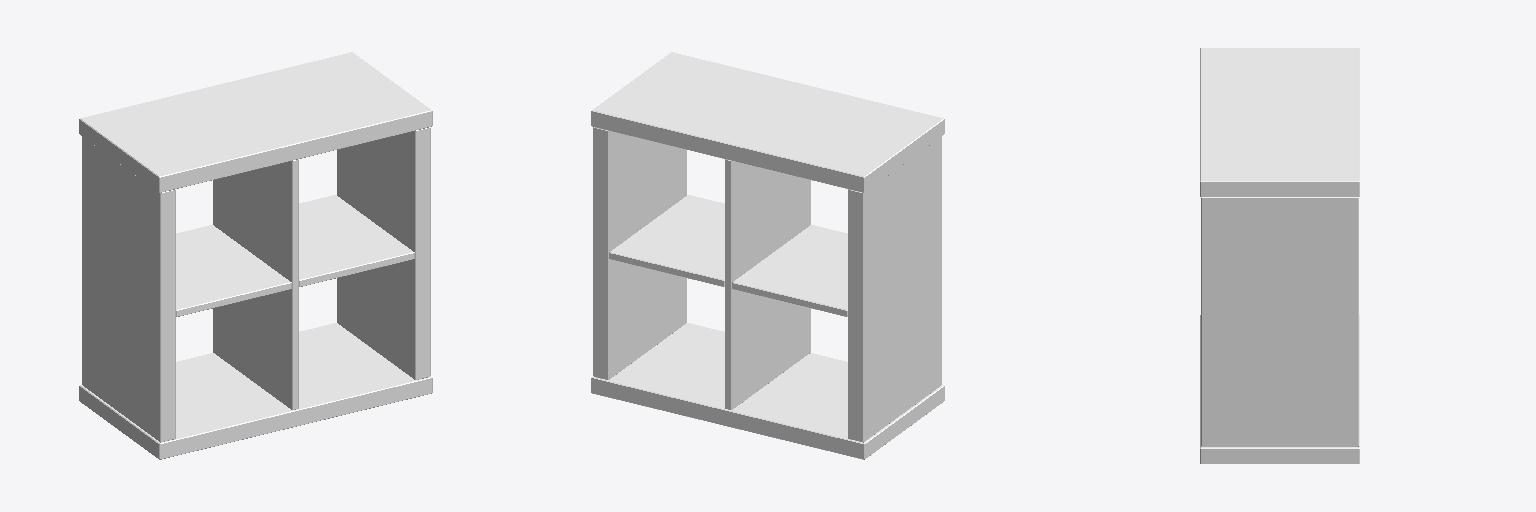
The picture shows the model from 3 angles: view 1: azimuth 30°, elevation 25°; view 2: azimuth 150°, elevation 25°; view 3: azimuth 270°, elevation 25°; orthographic projection.
Parts seen in each view (by area): view 1: mesh_0; view 2: mesh_0; view 3: mesh_0.
Boxes of the visible parts, x1=… form: mesh_0: x1=79, y1=52, x2=432, y2=459; mesh_0: x1=591, y1=52, x2=944, y2=459; mesh_0: x1=1200, y1=48, x2=1359, y2=463.
Bounding box in the file's own units: 0.7799 × 0.7717 × 0.3963.
1 materials, 1 textured.